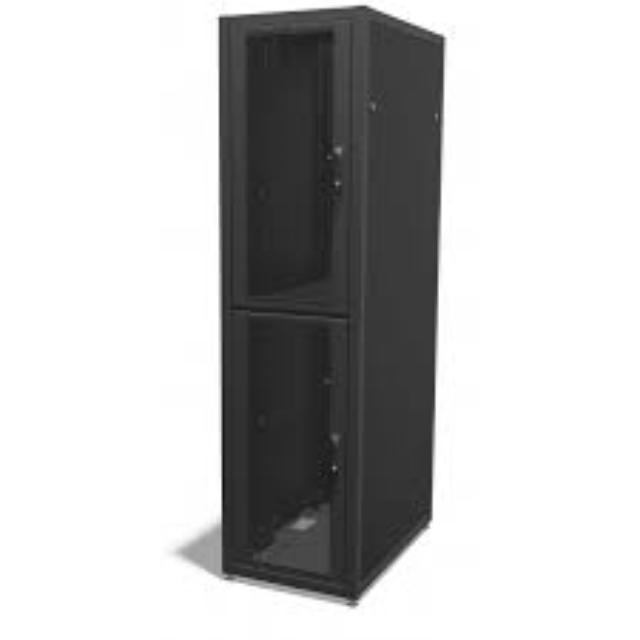Server: (211, 0, 453, 598)
